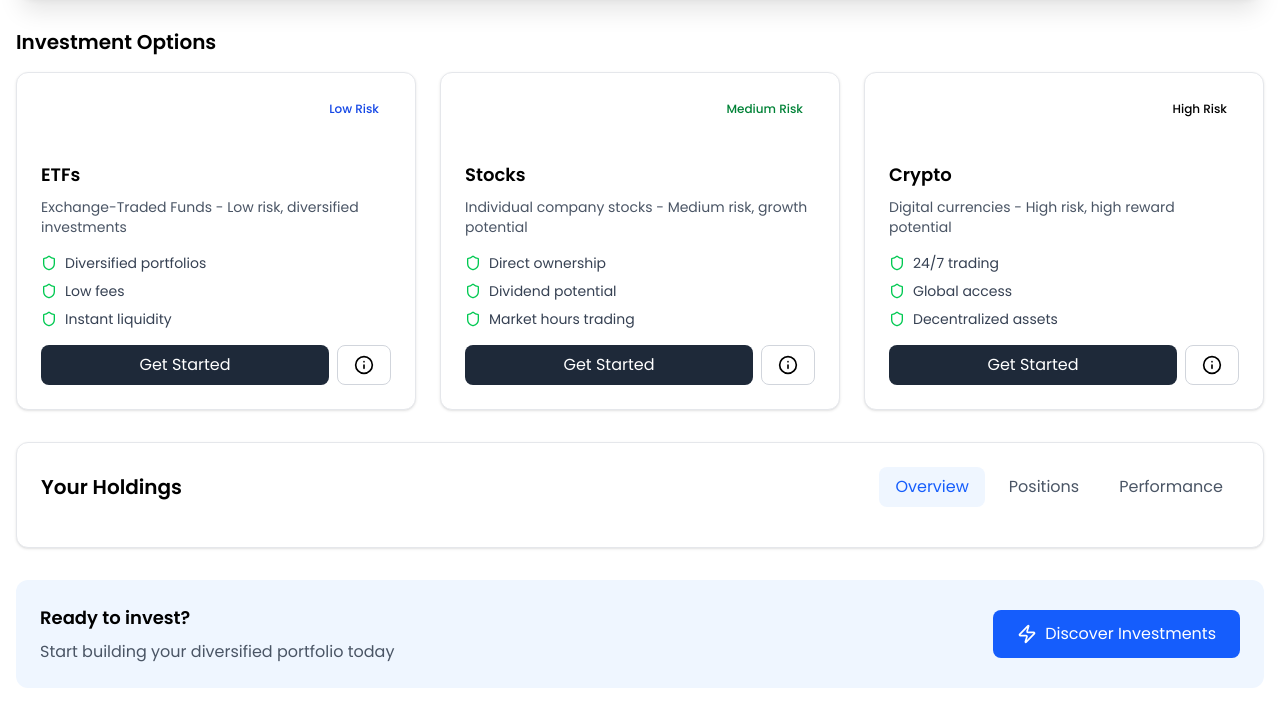
User Flow Integration Tests › Synthetic API Tracking Integration › all user actions are properly tracked
(page scrolled)
Click the button "Positions".
click(1044, 487)  # box [993,467,1095,507]
(page scrolled)
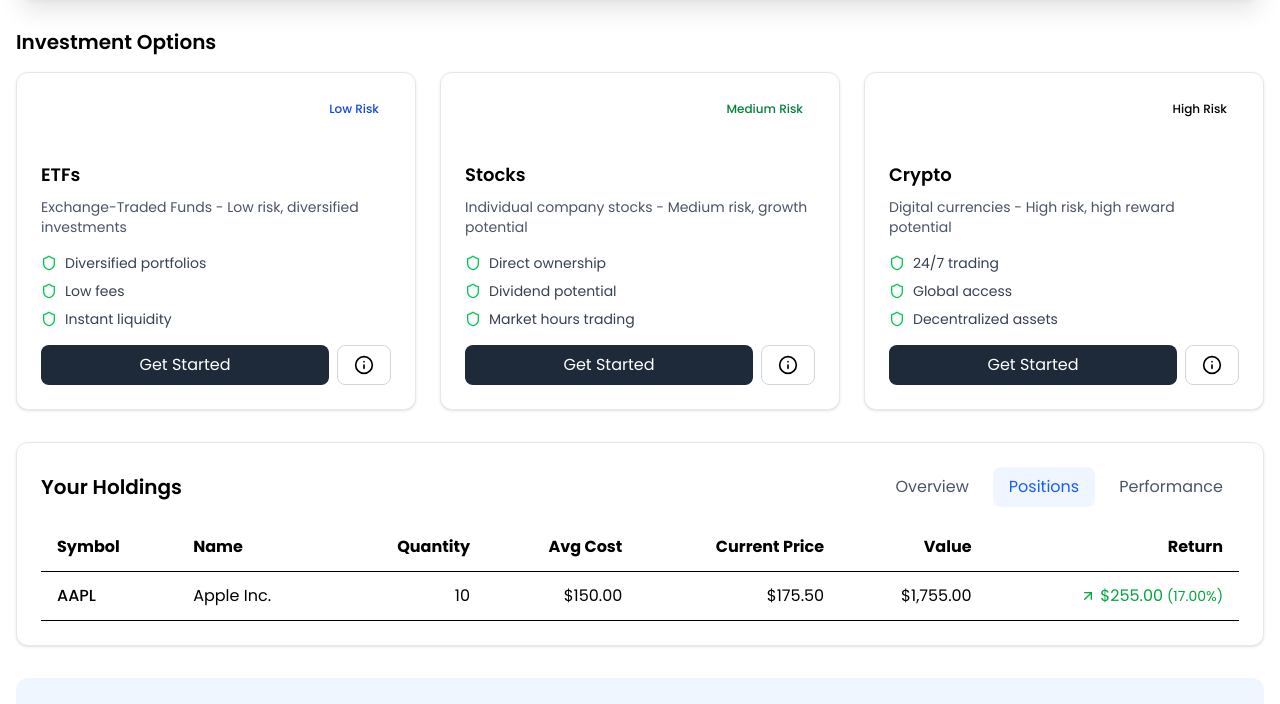
Now the text "AAPL" is shown, box [41,572,177,620]
